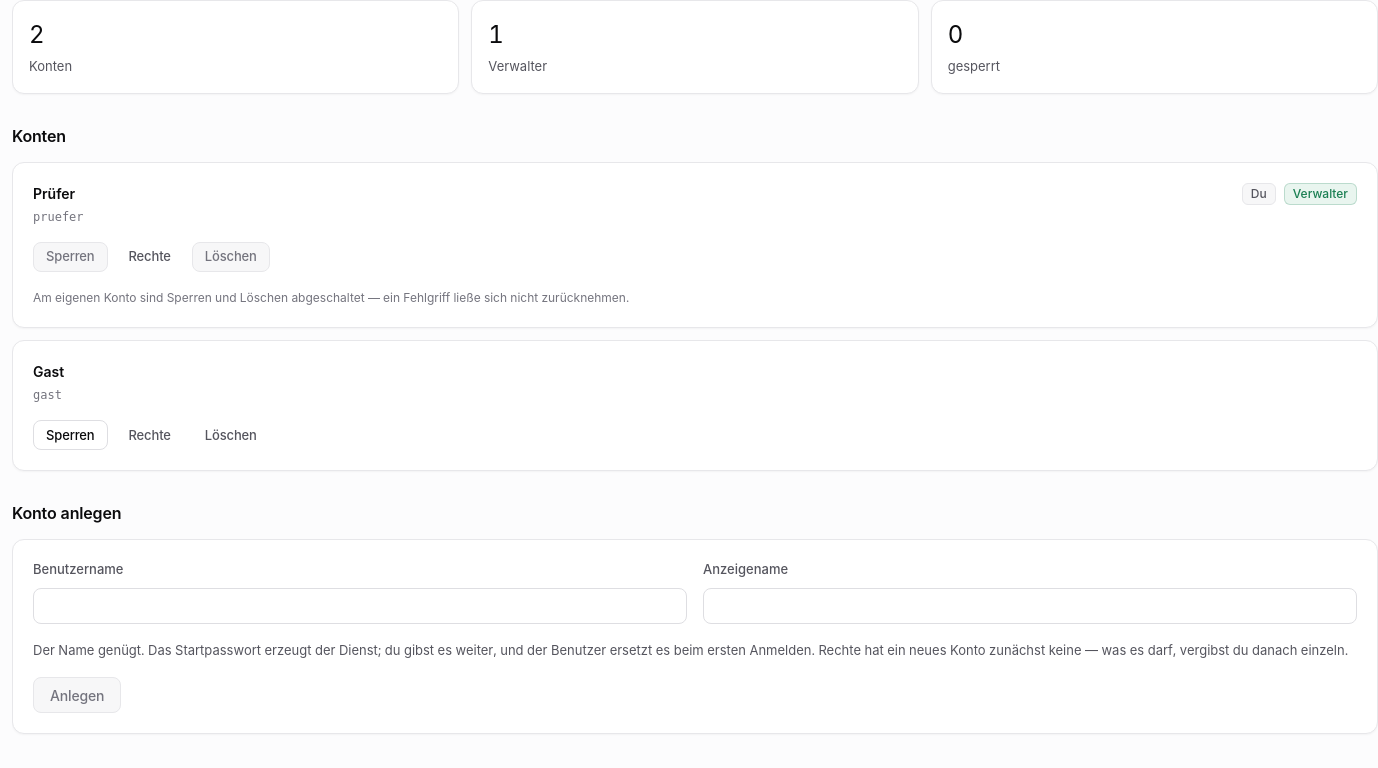
Test: Verwaltungsseite › Anlegen › blendet es erst auf ausdrückliches Wegklicken aus
Expected: the list named "Konten" is shown, [12,162,1377,471]
In the field labelled "Benutzername": (360, 606) [33,588,687,624], type "neuling"
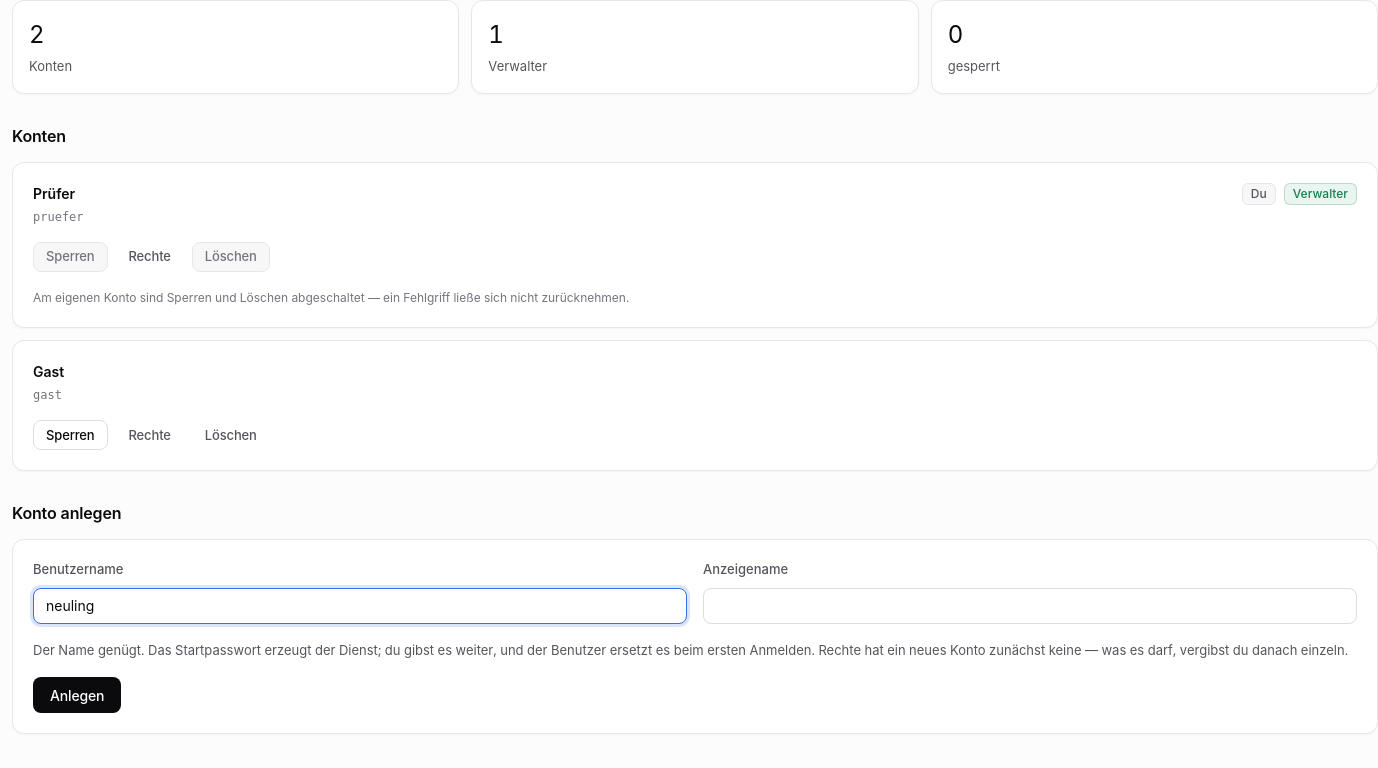
Click the button "Anlegen": (77, 695) [33,677,121,713]
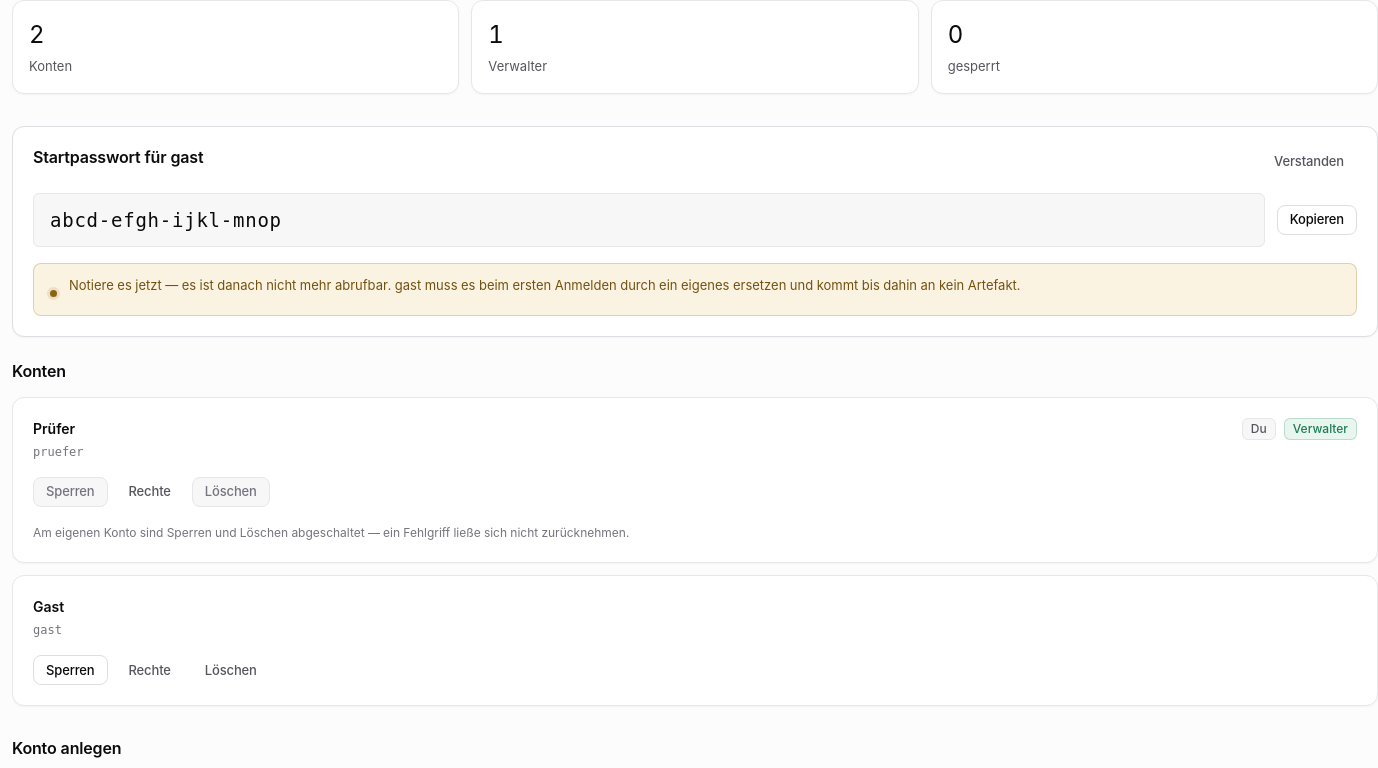
Result: the text "abcd-efgh-ijkl-mnop" is shown at [33,192,1265,247]
Click the button with aria-label "ausblenden": (1309, 162) [1261,146,1357,176]
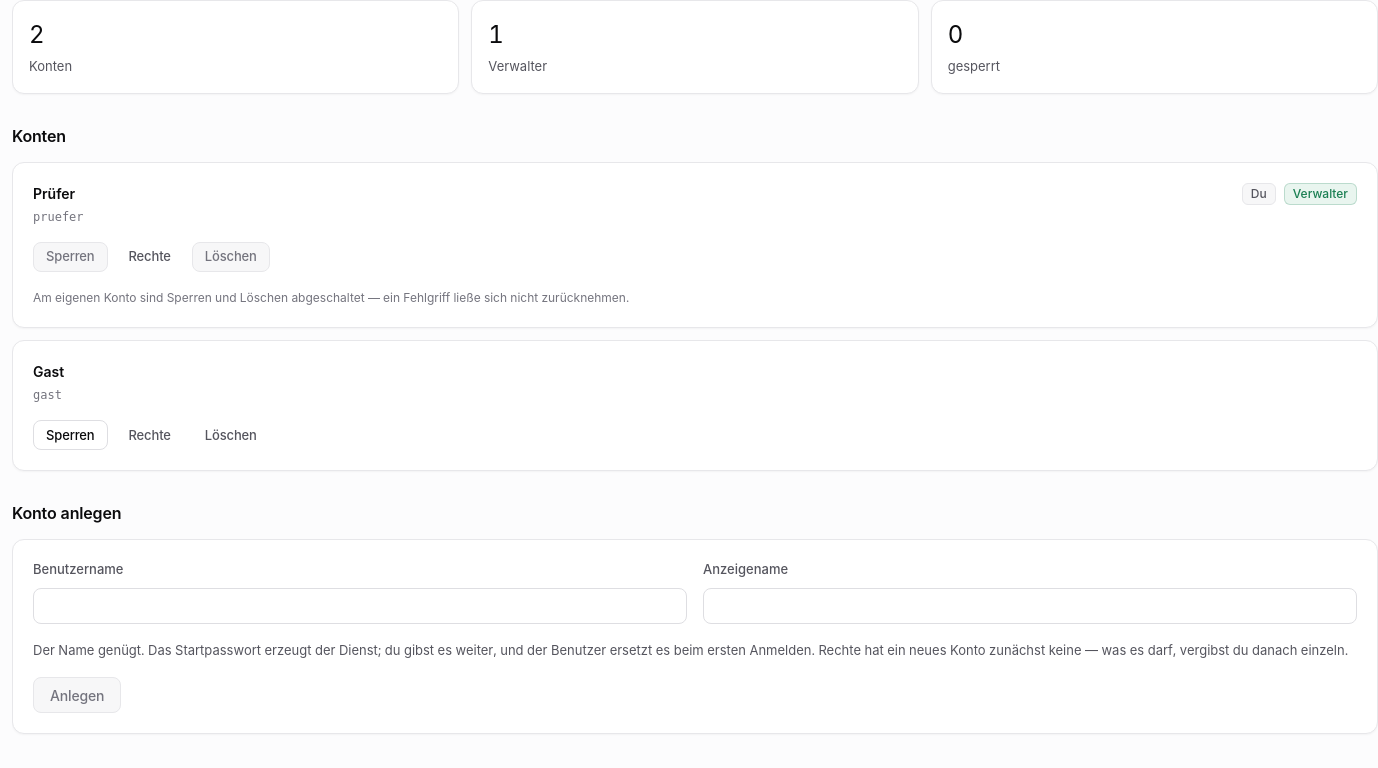
Result: the text "abcd-efgh-ijkl-mnop" is gone
